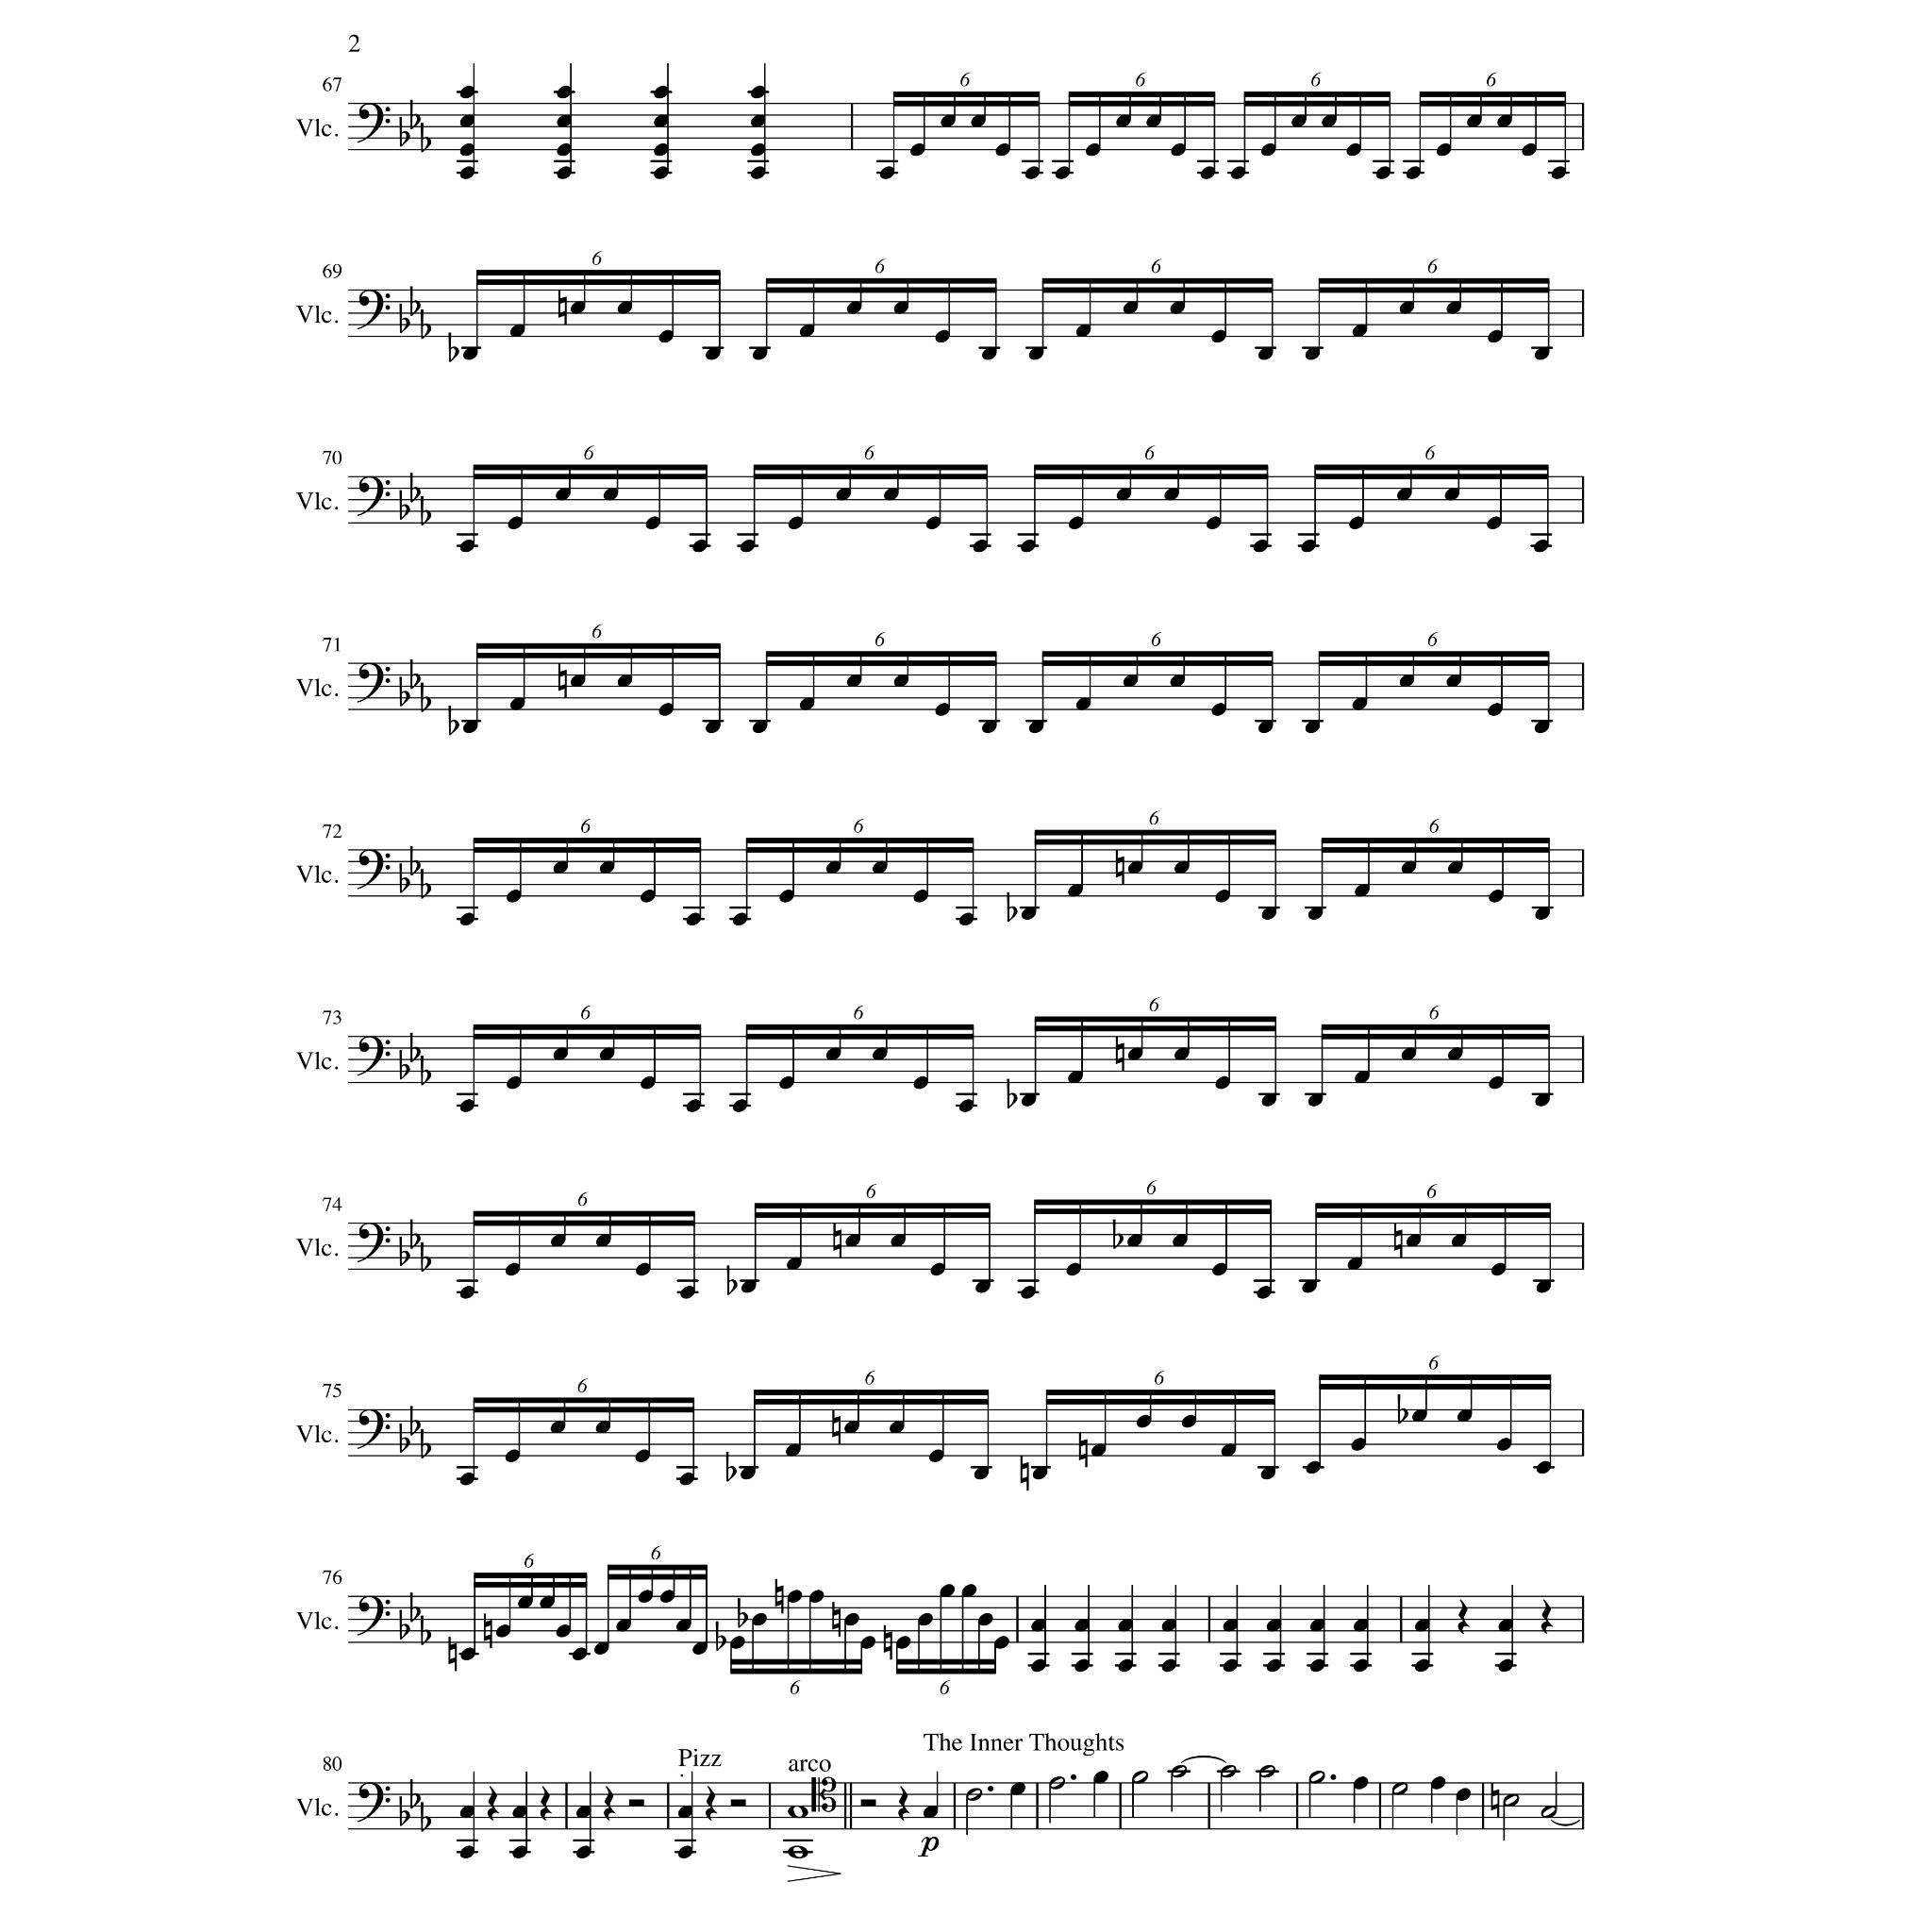fClef: (357, 475, 391, 517), (357, 662, 391, 704), (357, 849, 391, 891), (357, 1036, 391, 1077), (357, 104, 391, 143), (357, 291, 391, 330), (357, 1223, 391, 1262), (357, 1409, 391, 1449), (357, 1596, 391, 1636), (357, 1783, 391, 1823)
noteheadBlack: (1443, 487, 1460, 502), (602, 487, 619, 502), (506, 1075, 523, 1091), (458, 1472, 475, 1487), (1455, 1787, 1472, 1802), (1116, 487, 1131, 502), (1164, 487, 1179, 502), (1396, 487, 1411, 502), (555, 487, 570, 502), (836, 487, 851, 502), (883, 487, 898, 502), (1355, 883, 1370, 898), (1068, 883, 1083, 898), (1215, 1075, 1230, 1091), (1489, 1075, 1504, 1091), (640, 1075, 655, 1091), (913, 1075, 928, 1091), (779, 1075, 794, 1091), (1306, 1460, 1321, 1475), (1536, 1460, 1551, 1475), (679, 1472, 694, 1487), (540, 1594, 555, 1609), (517, 1594, 532, 1609), (1321, 114, 1338, 127), (1291, 114, 1307, 127), (1345, 143, 1362, 157), (1115, 114, 1132, 127), (1170, 143, 1187, 157), (1436, 143, 1453, 157), (1466, 114, 1483, 127), (1496, 114, 1513, 127), (1521, 143, 1538, 157), (653, 167, 670, 180), (653, 143, 670, 157), (653, 114, 670, 127), (653, 86, 670, 99), (458, 167, 475, 180), (458, 143, 475, 157), (458, 114, 475, 127), (458, 86, 475, 99), (994, 143, 1011, 157), (970, 114, 987, 127), (909, 143, 926, 157), (940, 114, 957, 127), (1257, 347, 1274, 360), (1304, 347, 1321, 360), (1351, 325, 1368, 338), (1398, 301, 1415, 314), (1445, 301, 1462, 314), (1487, 330, 1504, 343), (570, 301, 587, 314), (981, 347, 998, 360), (798, 325, 815, 338), (934, 330, 951, 343), (845, 301, 862, 314), (892, 301, 909, 314), (751, 347, 768, 360), (704, 347, 721, 360), (1206, 517, 1223, 530), (1300, 540, 1317, 553), (1068, 517, 1085, 530), (1532, 540, 1549, 553), (691, 540, 708, 553), (458, 540, 475, 553), (924, 517, 941, 530), (972, 540, 989, 553), (787, 517, 804, 530), (1257, 721, 1274, 734), (1304, 721, 1321, 734), (1351, 697, 1368, 710), (1398, 675, 1415, 688), (1445, 675, 1462, 688), (1487, 703, 1504, 716), (570, 675, 587, 688), (981, 721, 998, 734), (798, 697, 815, 710), (934, 703, 951, 716), (845, 675, 862, 688), (892, 675, 909, 688), (751, 721, 768, 734), (704, 721, 721, 734), (1260, 907, 1277, 920), (1126, 861, 1143, 874), (1400, 861, 1417, 874), (1534, 907, 1551, 920), (598, 861, 615, 874), (685, 913, 702, 926), (458, 913, 475, 926), (506, 890, 523, 903), (824, 861, 841, 874), (958, 913, 975, 926), (1260, 1093, 1277, 1107), (1126, 1047, 1143, 1060), (1400, 1047, 1417, 1060), (1534, 1093, 1551, 1107), (598, 1047, 615, 1060), (685, 1099, 702, 1112), (458, 1099, 475, 1112), (824, 1047, 841, 1060), (958, 1099, 975, 1112), (1211, 1263, 1228, 1276), (1126, 1234, 1143, 1247), (1172, 1234, 1189, 1247), (549, 1234, 566, 1247), (594, 1234, 611, 1247), (679, 1286, 696, 1299), (458, 1286, 475, 1299), (504, 1263, 521, 1276), (740, 1280, 757, 1293), (1457, 1409, 1474, 1423), (549, 1421, 566, 1434), (594, 1421, 611, 1434), (634, 1450, 651, 1463), (504, 1450, 521, 1463), (843, 1421, 860, 1434), (889, 1421, 906, 1434), (1117, 1659, 1134, 1673), (1074, 1619, 1091, 1632), (1074, 1659, 1091, 1673), (1117, 1619, 1134, 1632), (1160, 1619, 1177, 1632), (1160, 1659, 1177, 1673), (960, 1584, 977, 1597), (917, 1613, 934, 1626), (992, 1636, 1009, 1649), (592, 1641, 609, 1655), (555, 1624, 572, 1638), (658, 1590, 675, 1603), (615, 1619, 632, 1632), (494, 1624, 511, 1638), (808, 1590, 824, 1603), (894, 1636, 911, 1649), (843, 1613, 860, 1626), (691, 1641, 708, 1655), (751, 1613, 768, 1626), (1009, 1782, 1026, 1795), (1092, 1771, 1109, 1784), (677, 1806, 694, 1819), (677, 1846, 694, 1859), (458, 1806, 475, 1819), (458, 1846, 475, 1859), (511, 1806, 528, 1819), (511, 1846, 528, 1859), (923, 1806, 940, 1819), (1260, 143, 1275, 157), (1375, 167, 1391, 180), (1146, 114, 1161, 127), (1200, 167, 1215, 180), (1230, 167, 1245, 180), (1551, 167, 1566, 180), (1406, 167, 1421, 180), (751, 167, 766, 180), (751, 143, 766, 157), (751, 114, 766, 127), (751, 86, 766, 99), (879, 167, 894, 180), (557, 167, 572, 180), (557, 143, 572, 157), (557, 114, 572, 127), (557, 86, 572, 99), (1055, 167, 1070, 180), (1024, 167, 1040, 180), (1085, 143, 1100, 157), (1211, 330, 1226, 343), (1028, 347, 1043, 360), (1075, 325, 1091, 338), (1123, 301, 1138, 314), (1170, 301, 1185, 314), (1534, 347, 1549, 360), (509, 325, 525, 338), (617, 301, 632, 314), (658, 330, 674, 343), (462, 347, 477, 360), (1253, 540, 1268, 553), (1349, 517, 1364, 530), (1021, 540, 1036, 553), (1487, 517, 1502, 530), (645, 517, 660, 530), (508, 517, 523, 530), (740, 540, 755, 553), (1211, 703, 1226, 716), (1028, 721, 1043, 734), (1075, 697, 1091, 710), (1123, 675, 1138, 688), (1170, 675, 1185, 688), (1534, 721, 1549, 734), (509, 697, 525, 710), (617, 675, 632, 688), (658, 703, 674, 716), (462, 721, 477, 734), (1215, 890, 1230, 903), (1307, 907, 1323, 920), (1021, 907, 1036, 920), (1174, 861, 1189, 874), (1447, 861, 1462, 874), (1489, 890, 1504, 903), (553, 861, 568, 874), (640, 890, 655, 903), (872, 861, 887, 874), (913, 890, 928, 903), (779, 890, 794, 903), (732, 913, 747, 926), (1307, 1093, 1323, 1107), (1355, 1071, 1370, 1084), (1021, 1093, 1036, 1107), (1068, 1071, 1083, 1084), (1174, 1047, 1189, 1060), (1447, 1047, 1462, 1060), (553, 1047, 568, 1060), (872, 1047, 887, 1060), (732, 1099, 747, 1112), (1257, 1286, 1272, 1299), (1302, 1280, 1317, 1293), (1347, 1257, 1362, 1271), (1021, 1286, 1036, 1299), (1066, 1263, 1081, 1276), (1406, 1234, 1421, 1247), (1451, 1234, 1466, 1247), (1491, 1263, 1506, 1276), (1536, 1280, 1551, 1293), (636, 1263, 651, 1276), (845, 1234, 860, 1247), (891, 1234, 906, 1247), (930, 1263, 945, 1276), (975, 1280, 991, 1293), (787, 1257, 802, 1271), (1221, 1443, 1236, 1457), (1260, 1467, 1275, 1480), (1351, 1438, 1366, 1451), (1032, 1467, 1047, 1480), (1091, 1443, 1106, 1457), (1181, 1415, 1196, 1428), (1136, 1415, 1151, 1428), (1411, 1409, 1426, 1423), (1496, 1438, 1511, 1451), (928, 1450, 943, 1463), (740, 1467, 755, 1480), (974, 1467, 989, 1480), (785, 1443, 800, 1457), (1223, 1619, 1238, 1632), (1223, 1659, 1238, 1673), (940, 1584, 955, 1597), (1030, 1619, 1045, 1632), (1030, 1659, 1045, 1673), (977, 1613, 992, 1626), (1498, 1619, 1513, 1632), (1498, 1659, 1513, 1673), (1309, 1619, 1324, 1632), (1309, 1659, 1324, 1673), (1353, 1659, 1368, 1673), (1266, 1619, 1281, 1632), (1266, 1659, 1281, 1673), (1415, 1619, 1430, 1632), (1415, 1659, 1430, 1673), (1353, 1619, 1368, 1632), (572, 1647, 587, 1660), (638, 1590, 653, 1603), (460, 1647, 475, 1660), (787, 1590, 802, 1603), (860, 1636, 875, 1649), (730, 1636, 745, 1649), (675, 1619, 691, 1632), (1430, 1776, 1445, 1790), (1353, 1776, 1368, 1790), (575, 1806, 591, 1819), (575, 1846, 591, 1859)
noteheadHalf: (1170, 1765, 1187, 1778), (1258, 1765, 1275, 1778), (1220, 1765, 1237, 1778), (1048, 1776, 1065, 1790), (1131, 1771, 1148, 1784), (1503, 1793, 1520, 1807), (1541, 1806, 1557, 1819), (1308, 1771, 1325, 1784), (1391, 1782, 1408, 1795), (966, 1789, 983, 1802)
noteheadWhole: (787, 1804, 809, 1819), (787, 1845, 809, 1858)
restHalf: (628, 1799, 643, 1807), (860, 1799, 875, 1807), (730, 1799, 745, 1807)
restQuarter: (1457, 1599, 1470, 1635), (603, 1786, 616, 1822), (487, 1786, 500, 1822), (1541, 1599, 1553, 1635), (540, 1786, 551, 1822), (898, 1786, 909, 1822), (706, 1786, 717, 1822)
